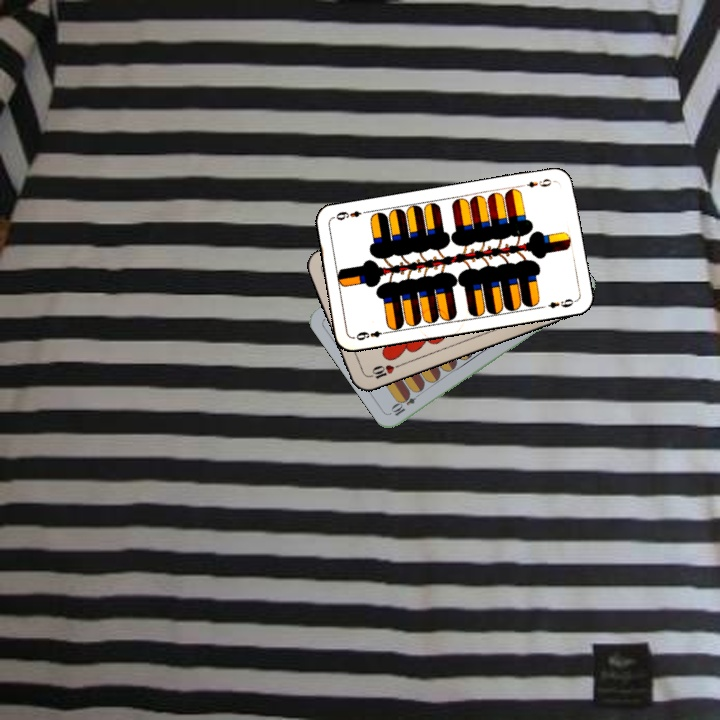E10: (388, 387, 424, 419)
E9: (352, 326, 391, 343), (523, 175, 557, 190)
H10: (364, 360, 403, 382)
